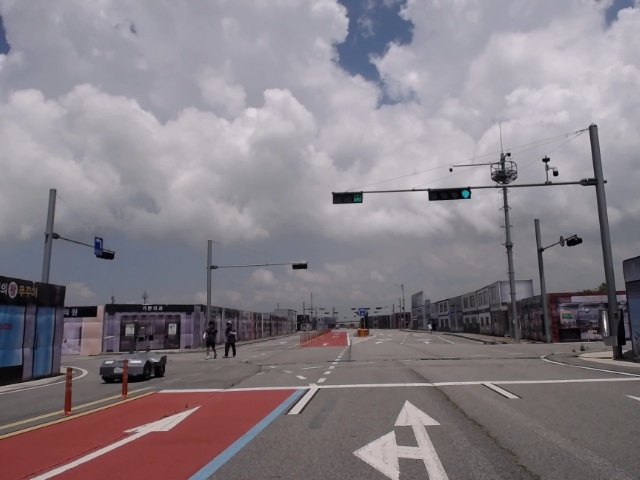straight_green_4: (426, 187, 472, 198)
